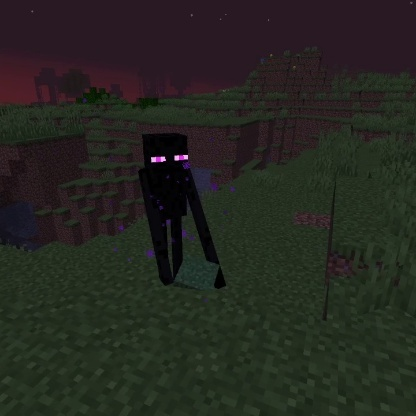enderman: (137, 131, 229, 292)
